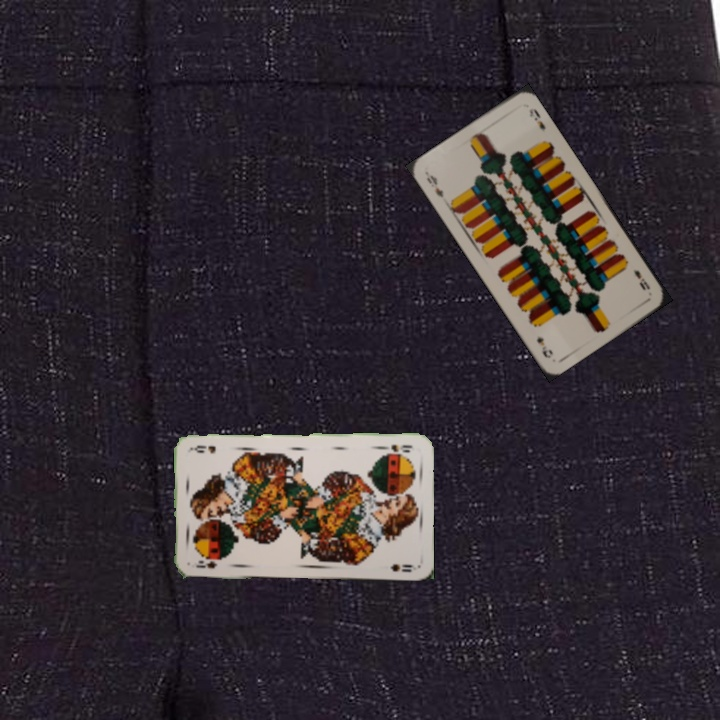E9: (422, 169, 446, 200), (629, 265, 653, 293)
SO: (377, 441, 415, 455), (192, 557, 219, 571)
